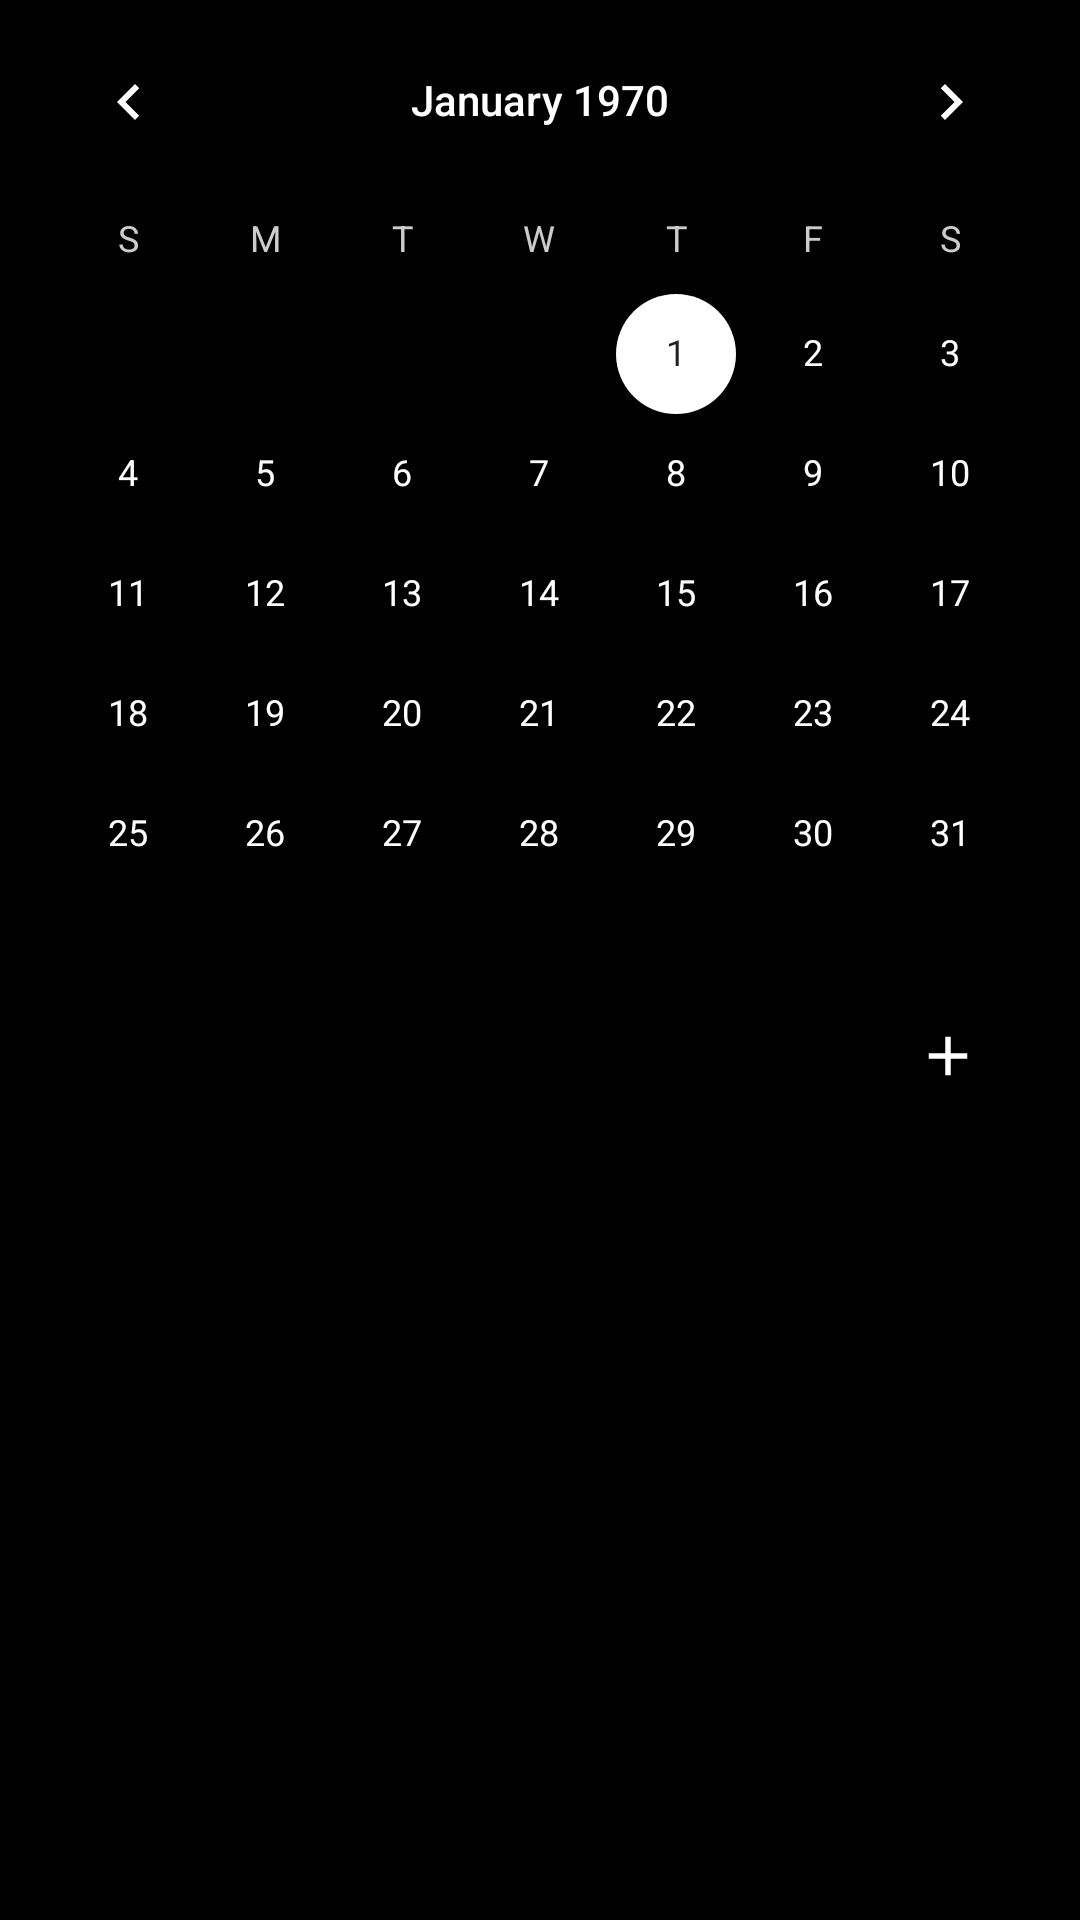

Where icons sit on this 1080x1920 app screen, as rect(x1, y1, x2, y2):
Add task: rect(928, 1036, 968, 1076)
